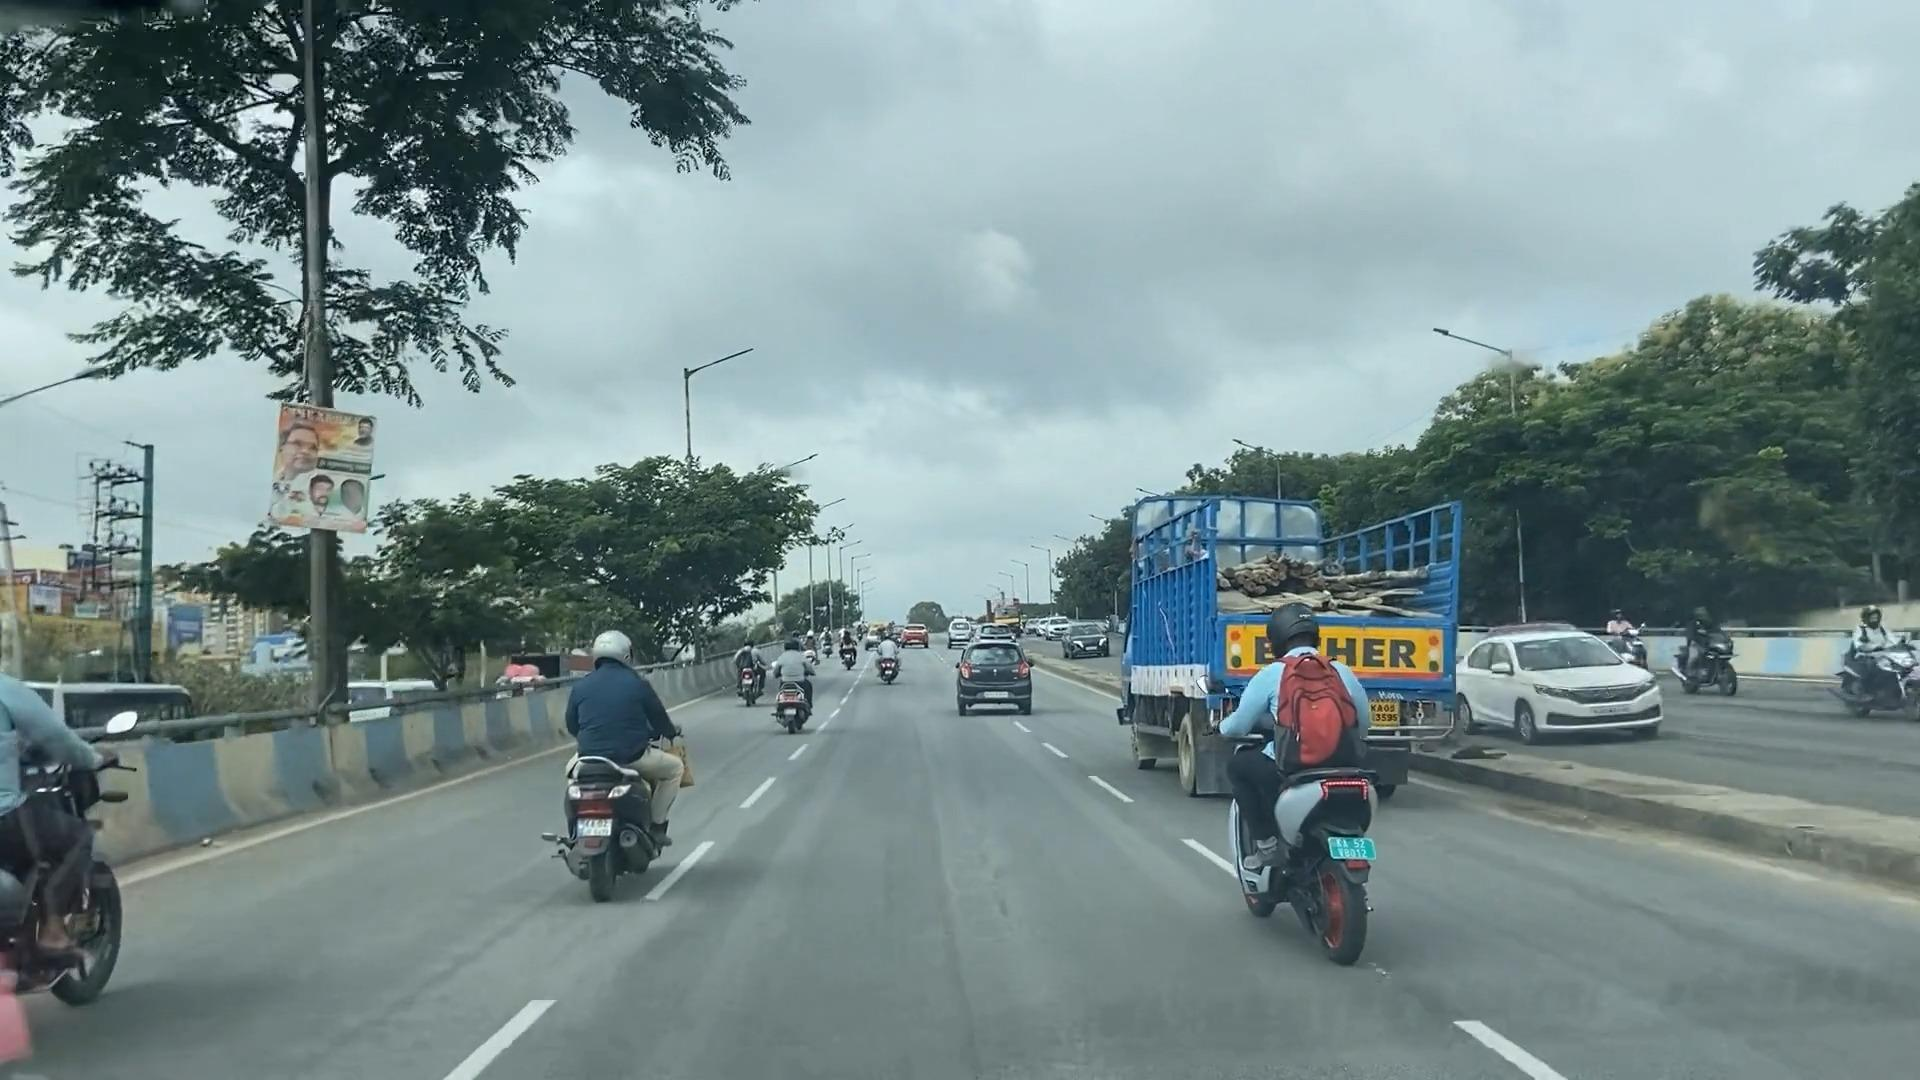LMV: (1189, 589, 1377, 926), (550, 620, 682, 902)
